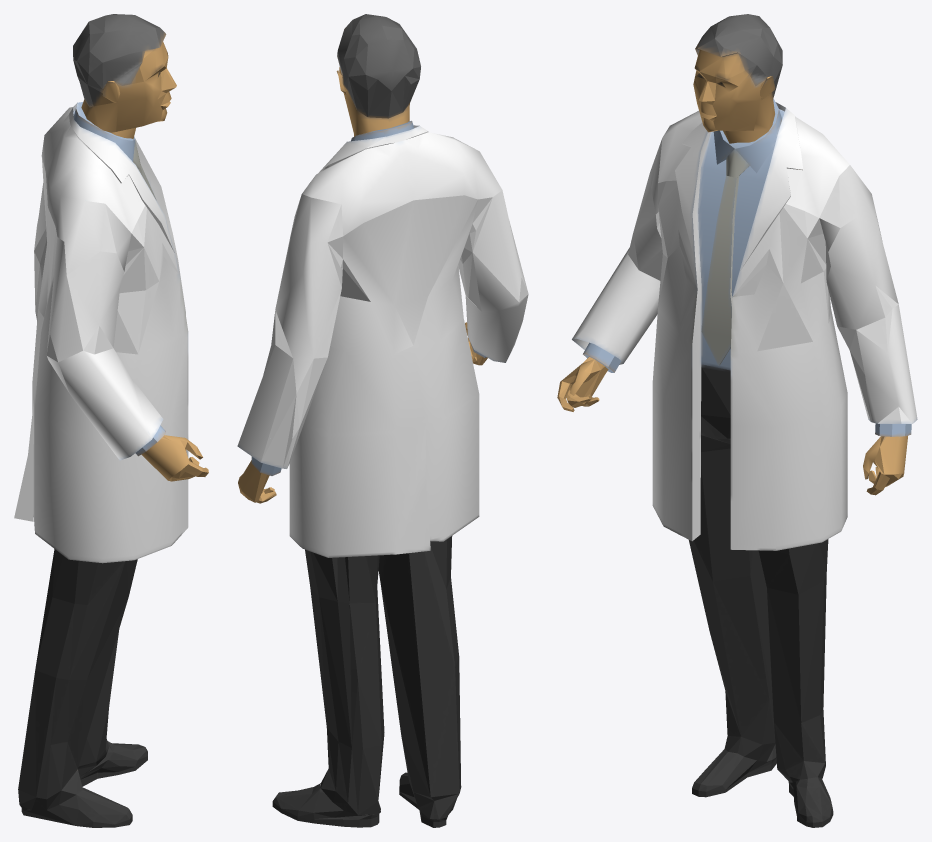
The model's file is Doctor Male.fbx.
The picture shows the model from 3 angles, left to right: view 1: azimuth 30°, elevation 25°; view 2: azimuth 150°, elevation 25°; view 3: azimuth 270°, elevation 25°; orthographic projection.
Visible parts, largest first — view 1: Doctor; view 2: Doctor; view 3: Doctor.
Part boxes in pixels (<box>): Doctor: <box>14,14,208,827</box>; Doctor: <box>237,14,528,827</box>; Doctor: <box>557,14,917,827</box>.
Size of the model in its own units: 0.4323 by 1.86 by 0.7759.
